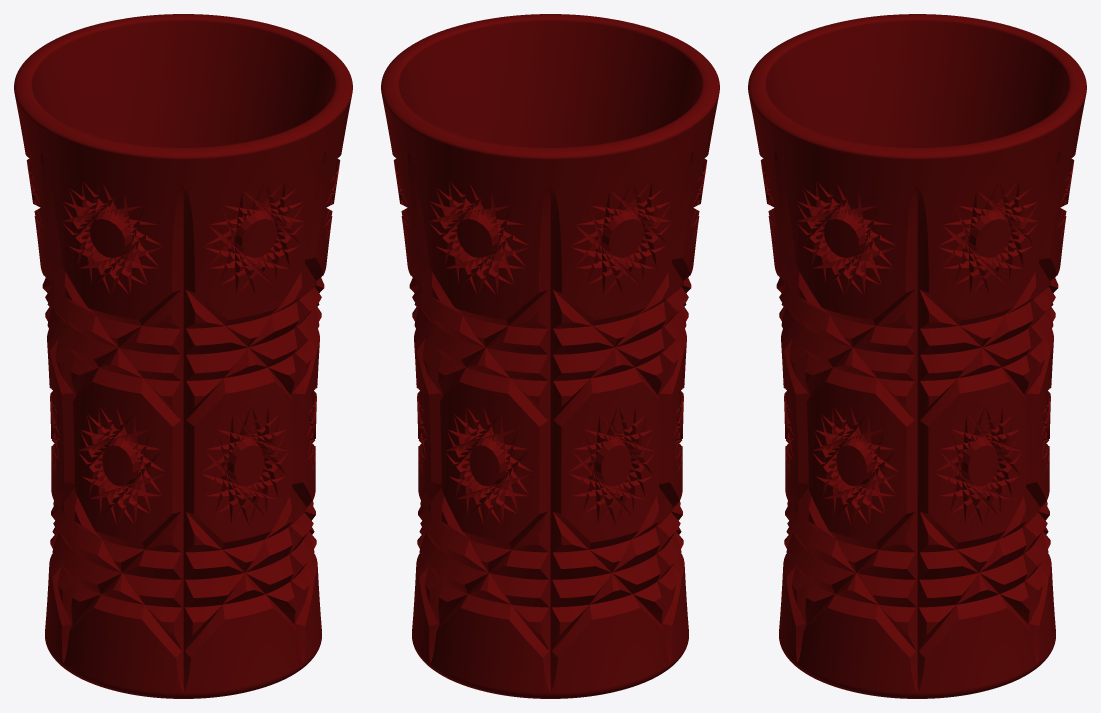
File: flora2.glb
3 views of the same model, side by side, from view 1: azimuth 30°, elevation 25°; view 2: azimuth 150°, elevation 25°; view 3: azimuth 270°, elevation 25° (orthographic).
Bounding box in the file's own units: 0.068 × 0.1243 × 0.068.
